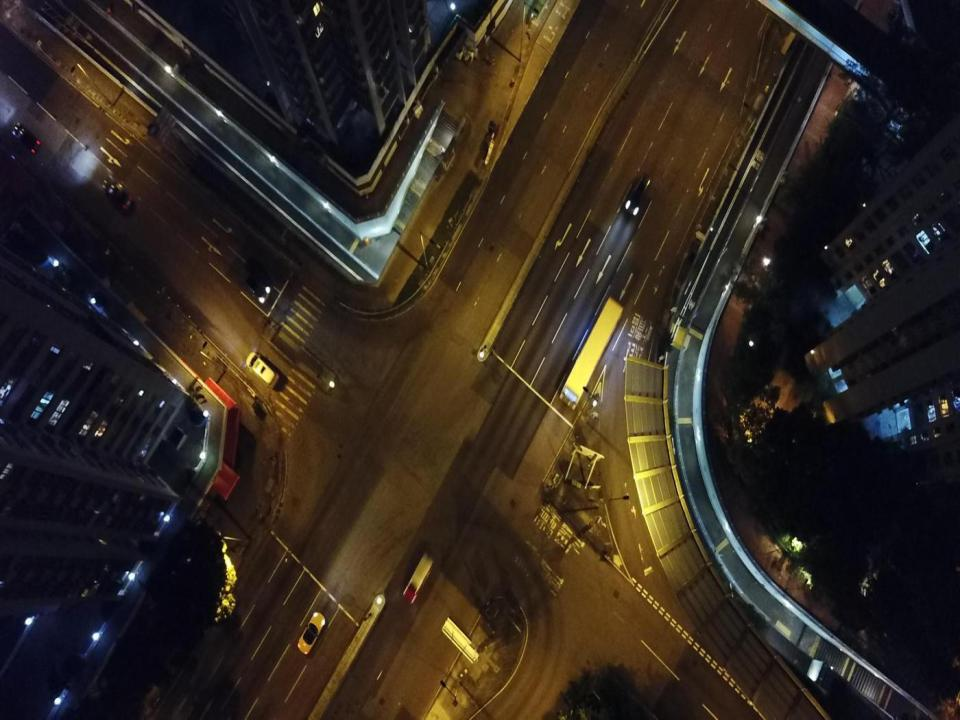bus: (559, 296, 624, 410)
car: (403, 550, 434, 605), (236, 267, 271, 305), (622, 173, 651, 218), (297, 611, 326, 655), (246, 352, 281, 388), (104, 177, 134, 213), (12, 120, 40, 154)
